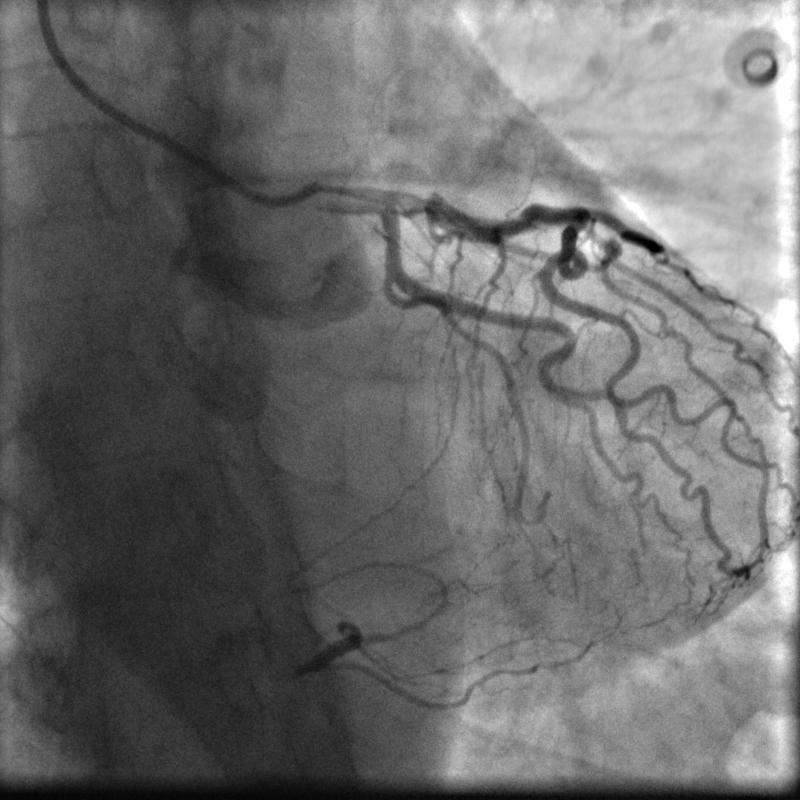Stenosis: (403, 187, 442, 224)
